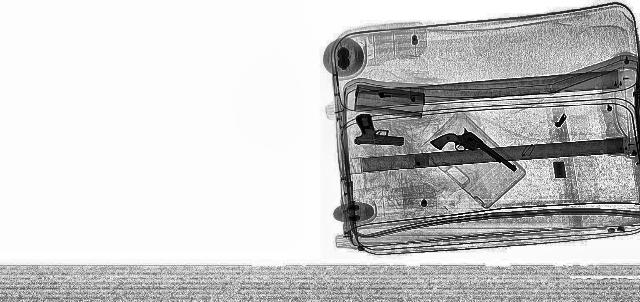Gun: (424, 127, 526, 178), (352, 113, 404, 147)
